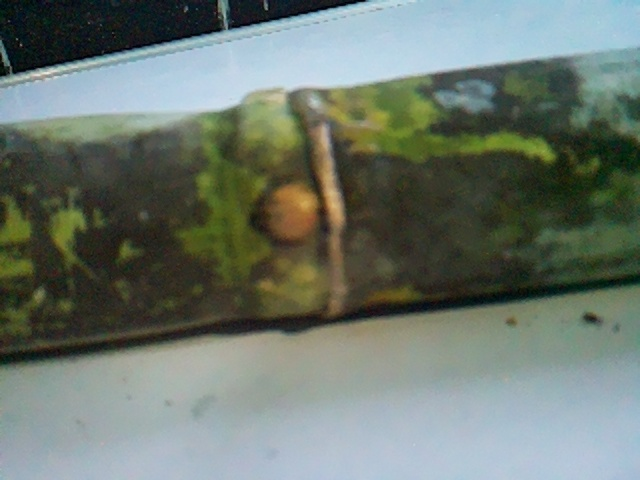Good Sugarcane: (0, 55, 633, 362)
Node: (211, 84, 370, 328)
